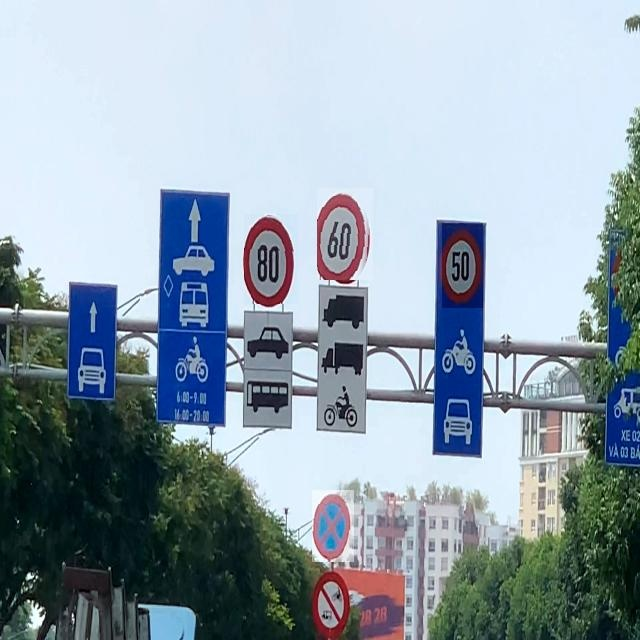bien_chi_dan: (317, 188, 373, 280), (244, 214, 298, 304), (442, 223, 483, 308), (312, 490, 354, 562)
